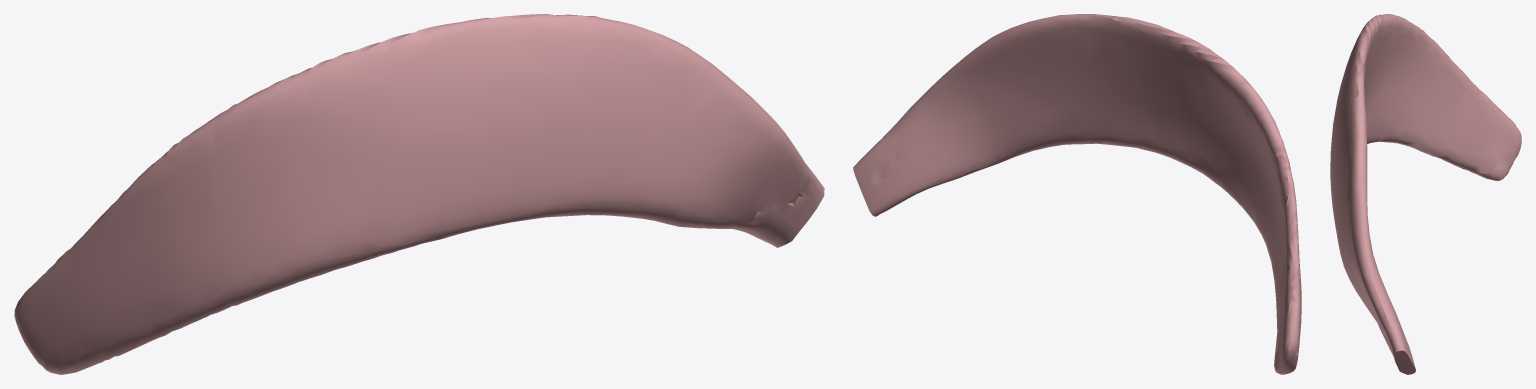
The model's file is fma59091_mm2226m.glb.
3 views of the same model, side by side, from view 1: azimuth 30°, elevation 25°; view 2: azimuth 150°, elevation 25°; view 3: azimuth 270°, elevation 25° (orthographic). The views are drawn at different scales.
Parts seen in each view (by area): view 1: FMA59091_MM2226M; view 2: FMA59091_MM2226M; view 3: FMA59091_MM2226M.
Part boxes in pixels (x1=…): FMA59091_MM2226M: x1=14, y1=14, x2=824, y2=374; FMA59091_MM2226M: x1=853, y1=14, x2=1301, y2=374; FMA59091_MM2226M: x1=1330, y1=14, x2=1521, y2=374.
Size of the model in its own units: 0.0266 by 0.0125 by 0.00937.
